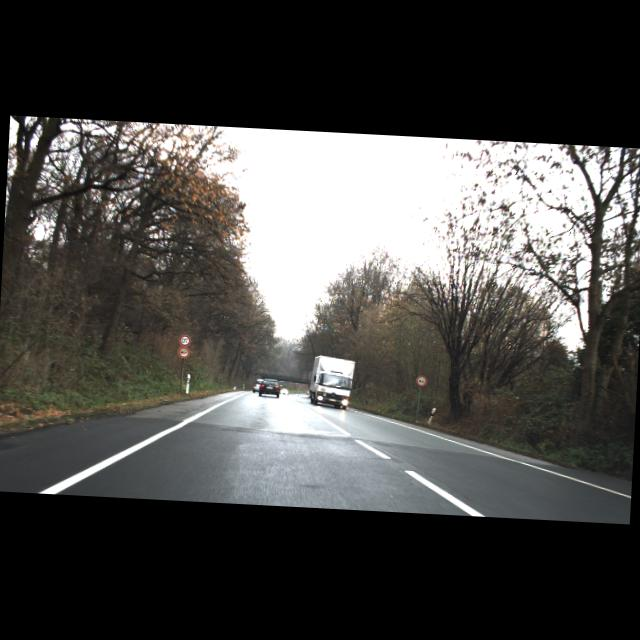prohibitory: (179, 334, 192, 348), (178, 346, 190, 359), (416, 376, 428, 388)
